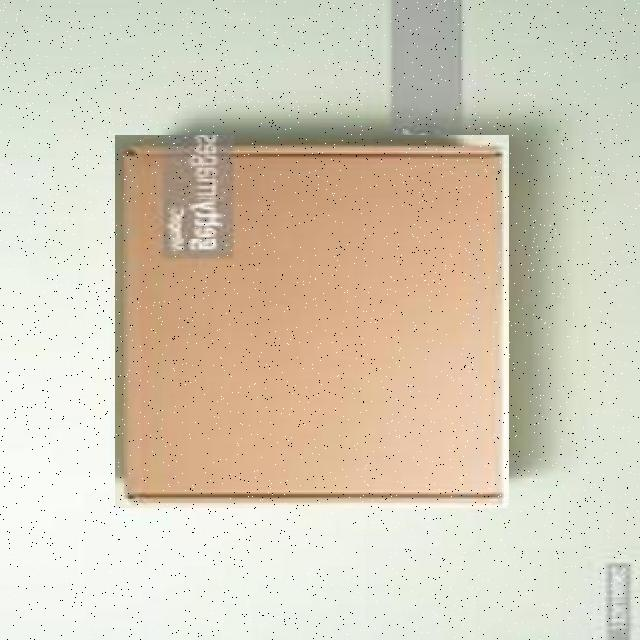normal: (116, 135, 510, 508)
